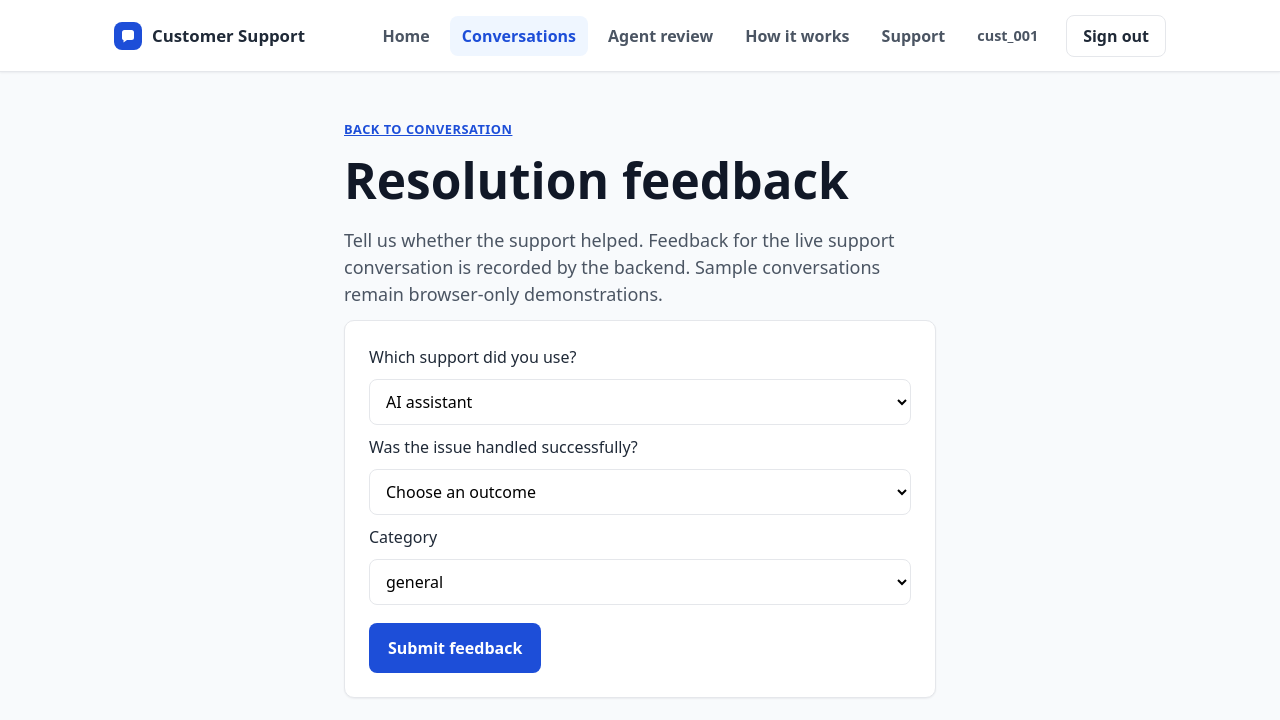
Test: customer support workflows › allows backend submission when only legacy local feedback exists
Check: the button "Submit feedback" is shown, box [369, 623, 541, 673]
Select "Yes" in the dropdown labelled "Was the issue handled successfully?" at (640, 492), box [369, 469, 911, 515]
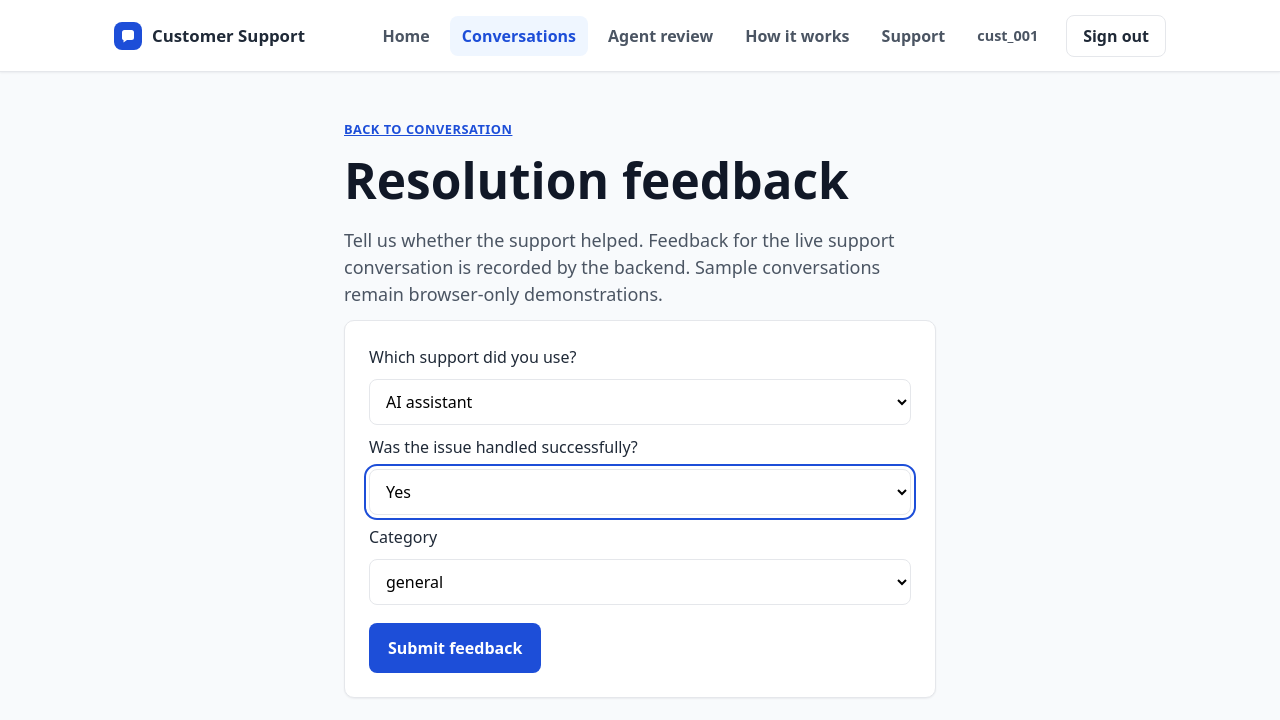
Click the button "Submit feedback".
click(455, 648)  # box [369, 623, 541, 673]
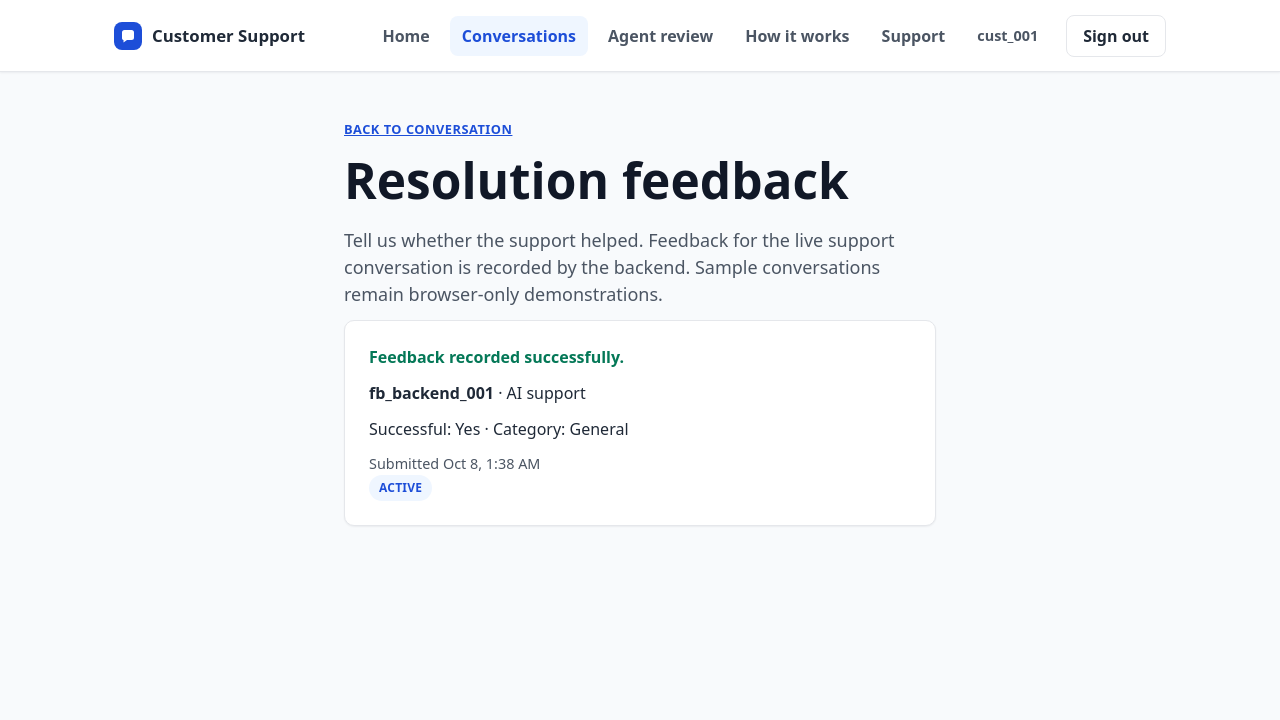
Check: the text "Feedback recorded successfully." is shown, box [369, 346, 624, 368]
Check: the text "fb_backend_001" is shown, box [369, 382, 494, 404]
